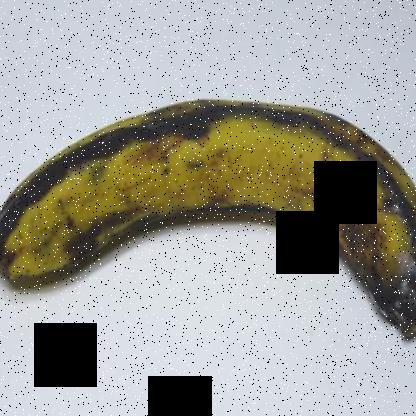overripe: (0, 83, 415, 352)
rotten: (347, 193, 415, 346)
